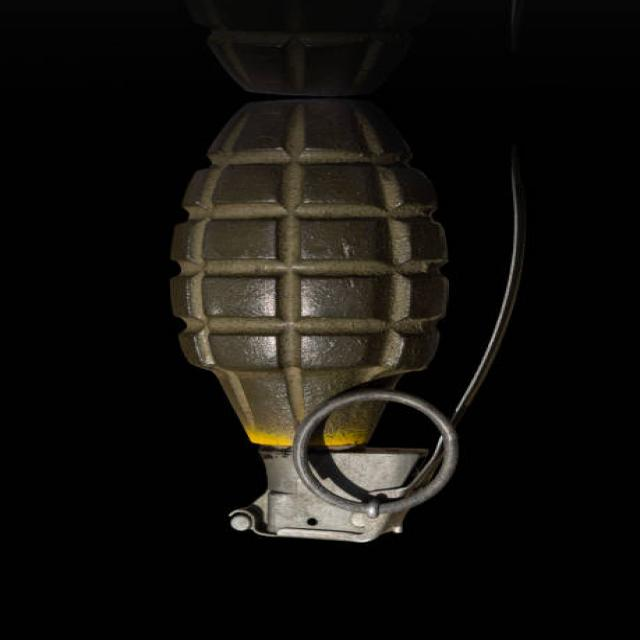grenade: (172, 98, 532, 548)
